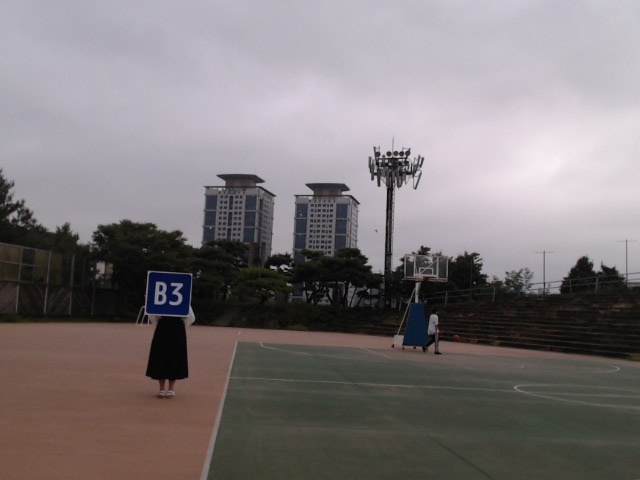delivery_b3: (147, 271, 191, 317)
